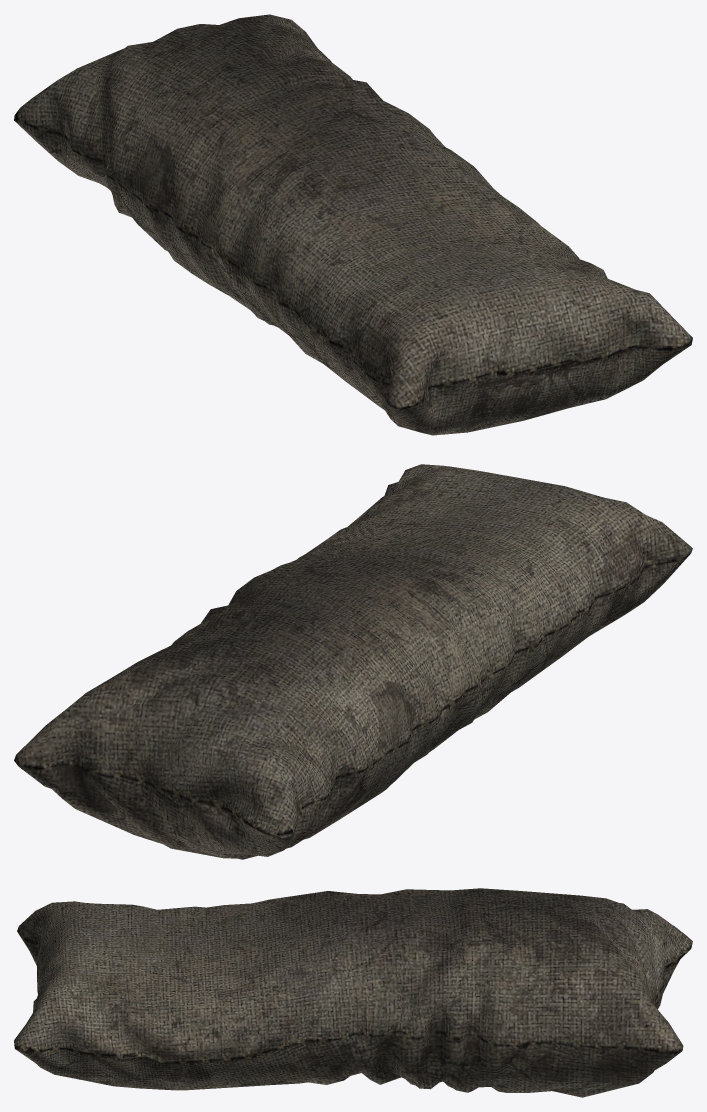
File: SM_Sandbags_01.glb
3 views of the same model, one above another, from view 1: azimuth 30°, elevation 25°; view 2: azimuth 150°, elevation 25°; view 3: azimuth 270°, elevation 25° (orthographic). The views are drawn at different scales.
Parts seen in each view (by area): view 1: SM_Sandbags_01; view 2: SM_Sandbags_01; view 3: SM_Sandbags_01.
Part boxes in pixels (box(x1,y1,x2,y2)): SM_Sandbags_01: box(14, 14, 692, 435); SM_Sandbags_01: box(14, 464, 692, 859); SM_Sandbags_01: box(14, 888, 692, 1097).
Bounding box in the file's own units: 0.3662 × 0.2481 × 0.8383.
Materials: 1 (1 with a texture image).
